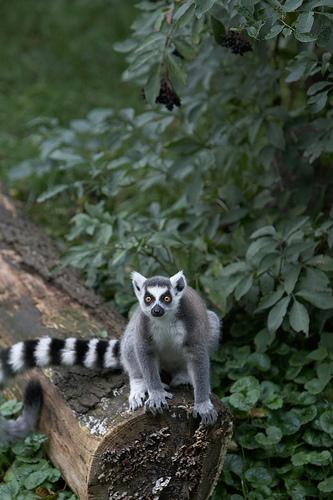cat: (0, 267, 220, 415)
